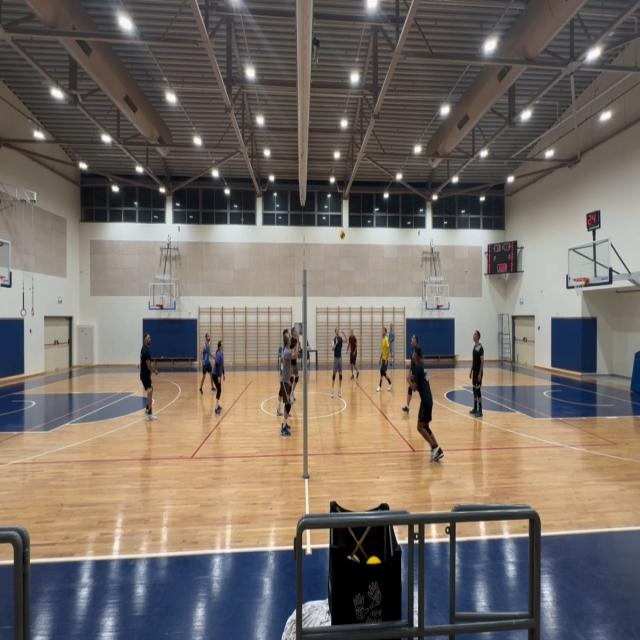volleyball: (340, 230, 345, 240)
